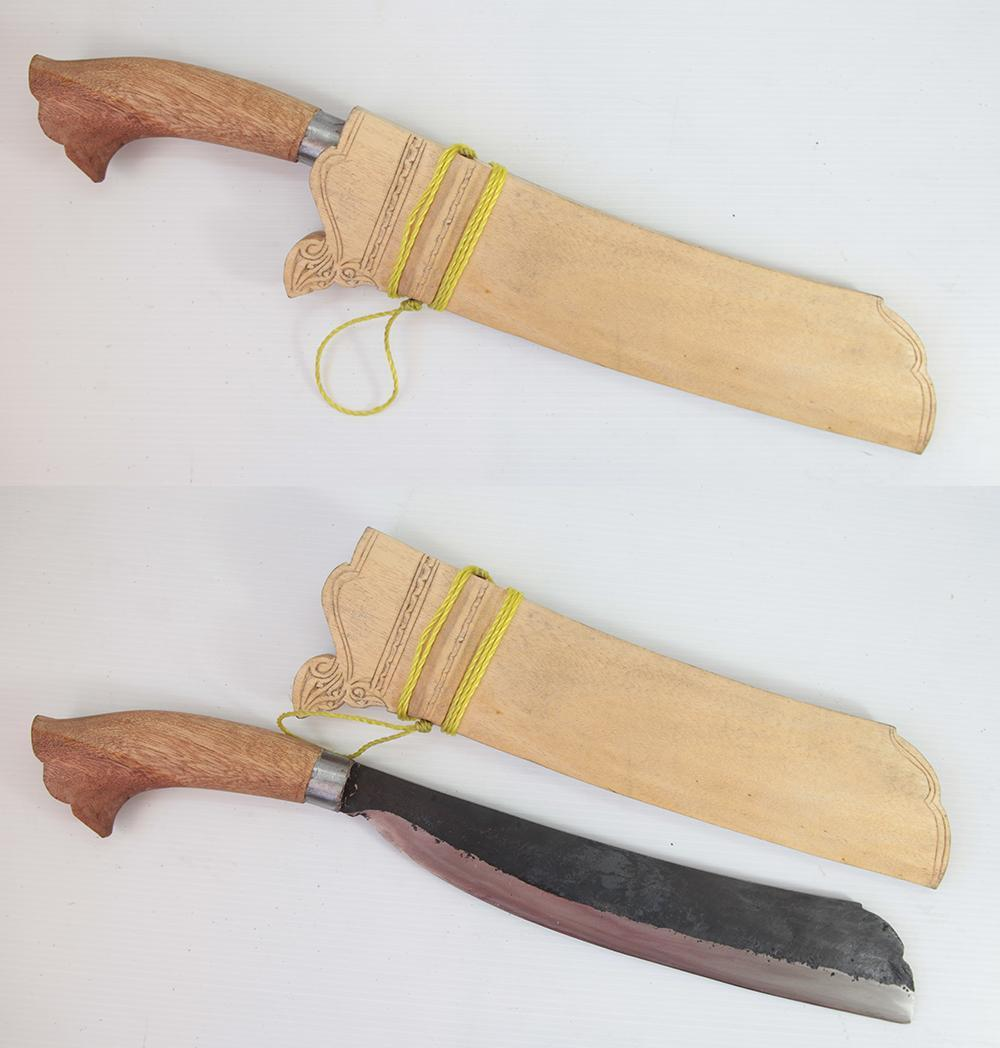espada: (30, 57, 934, 453), (32, 711, 913, 1021)
